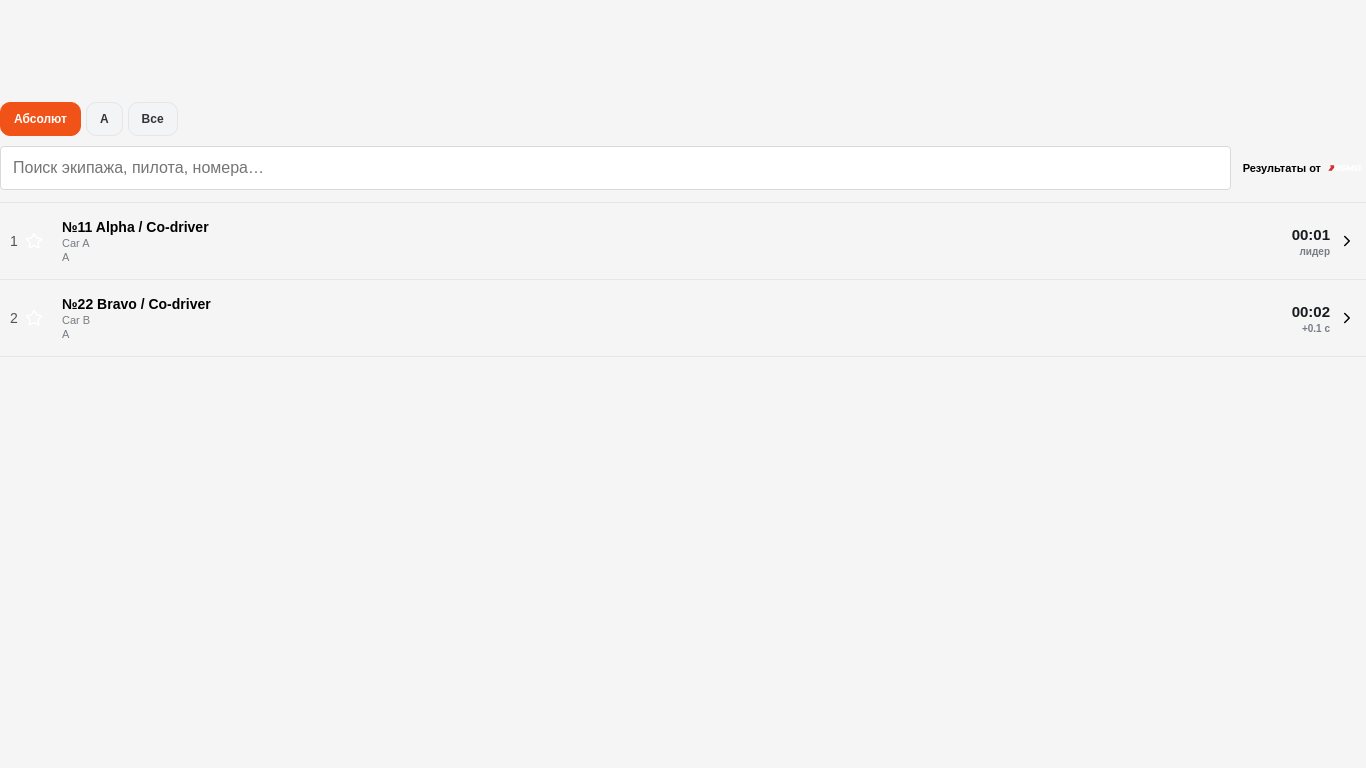
Test: inline results screen › opens all stage results in the crew details modal
Check: the button named "Следить за экипажем: Alpha" is shown, box top-left (20, 227), bottom-right (48, 255)
Click the button with aria-label "Открыть результаты экипажа Alpha": (152,227) top-left (58, 203), bottom-right (1365, 279)
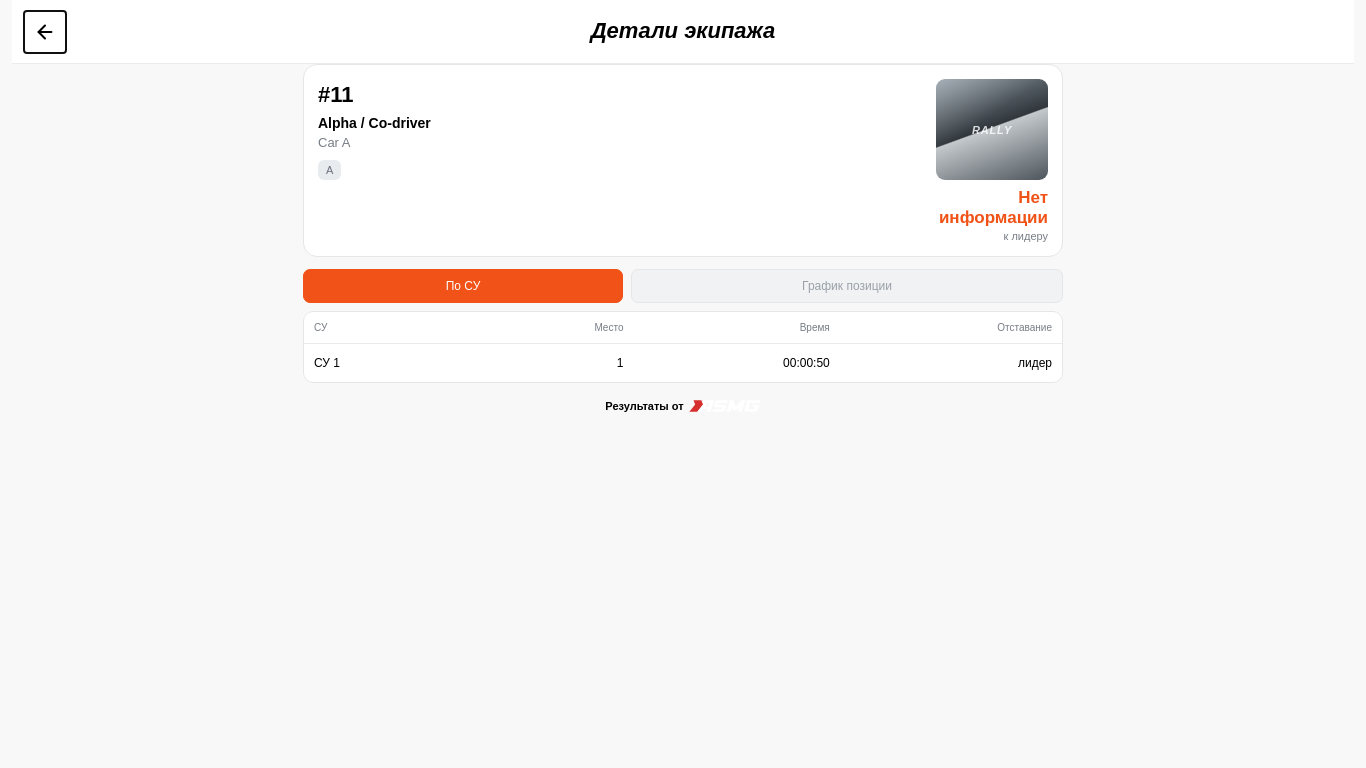
Check: the dialog "Детали экипажа" is shown
Check: the heading "Детали экипажа" is shown, box top-left (591, 18), bottom-right (775, 43)
Check: the text "СУ 1" is shown, box top-left (314, 356), bottom-right (340, 370)
